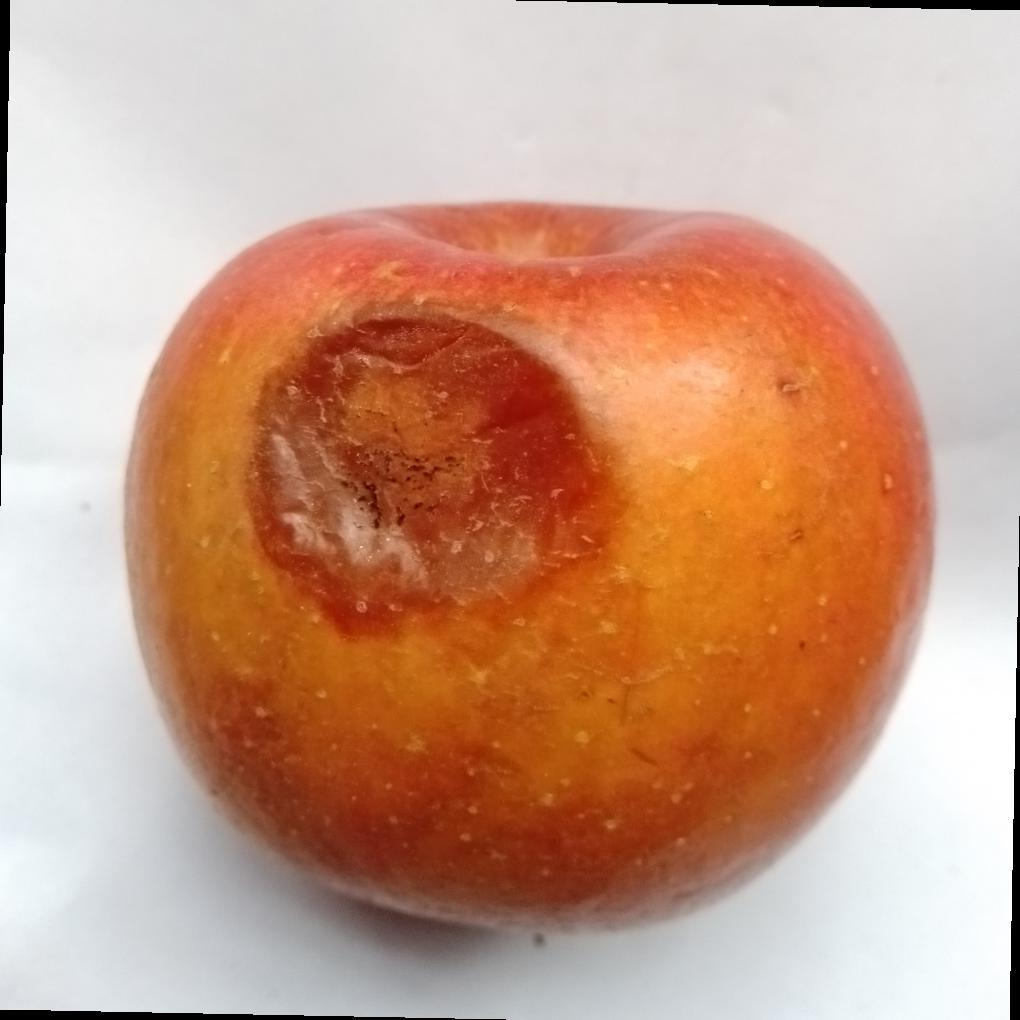FreshOrange: (122, 201, 939, 944)
